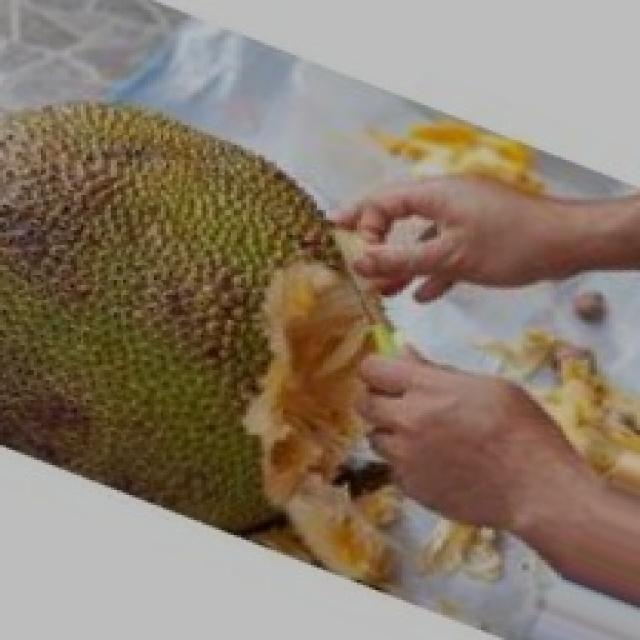Fruit: (0, 68, 382, 422)
